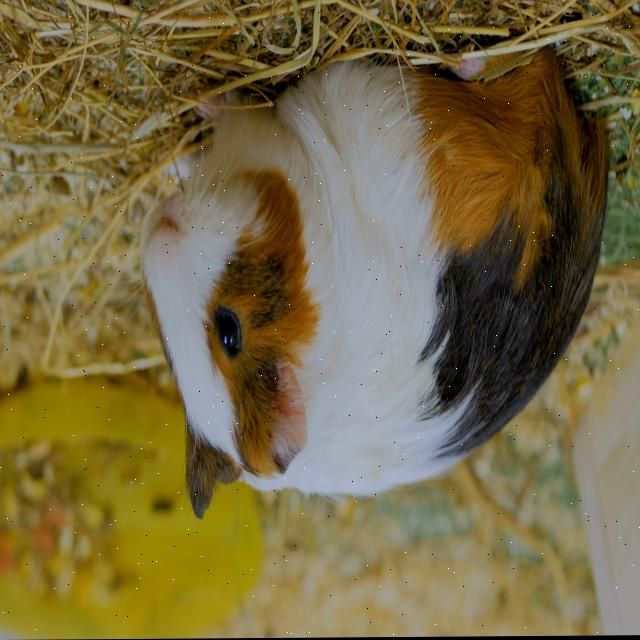guinea pig: (142, 63, 605, 518)
